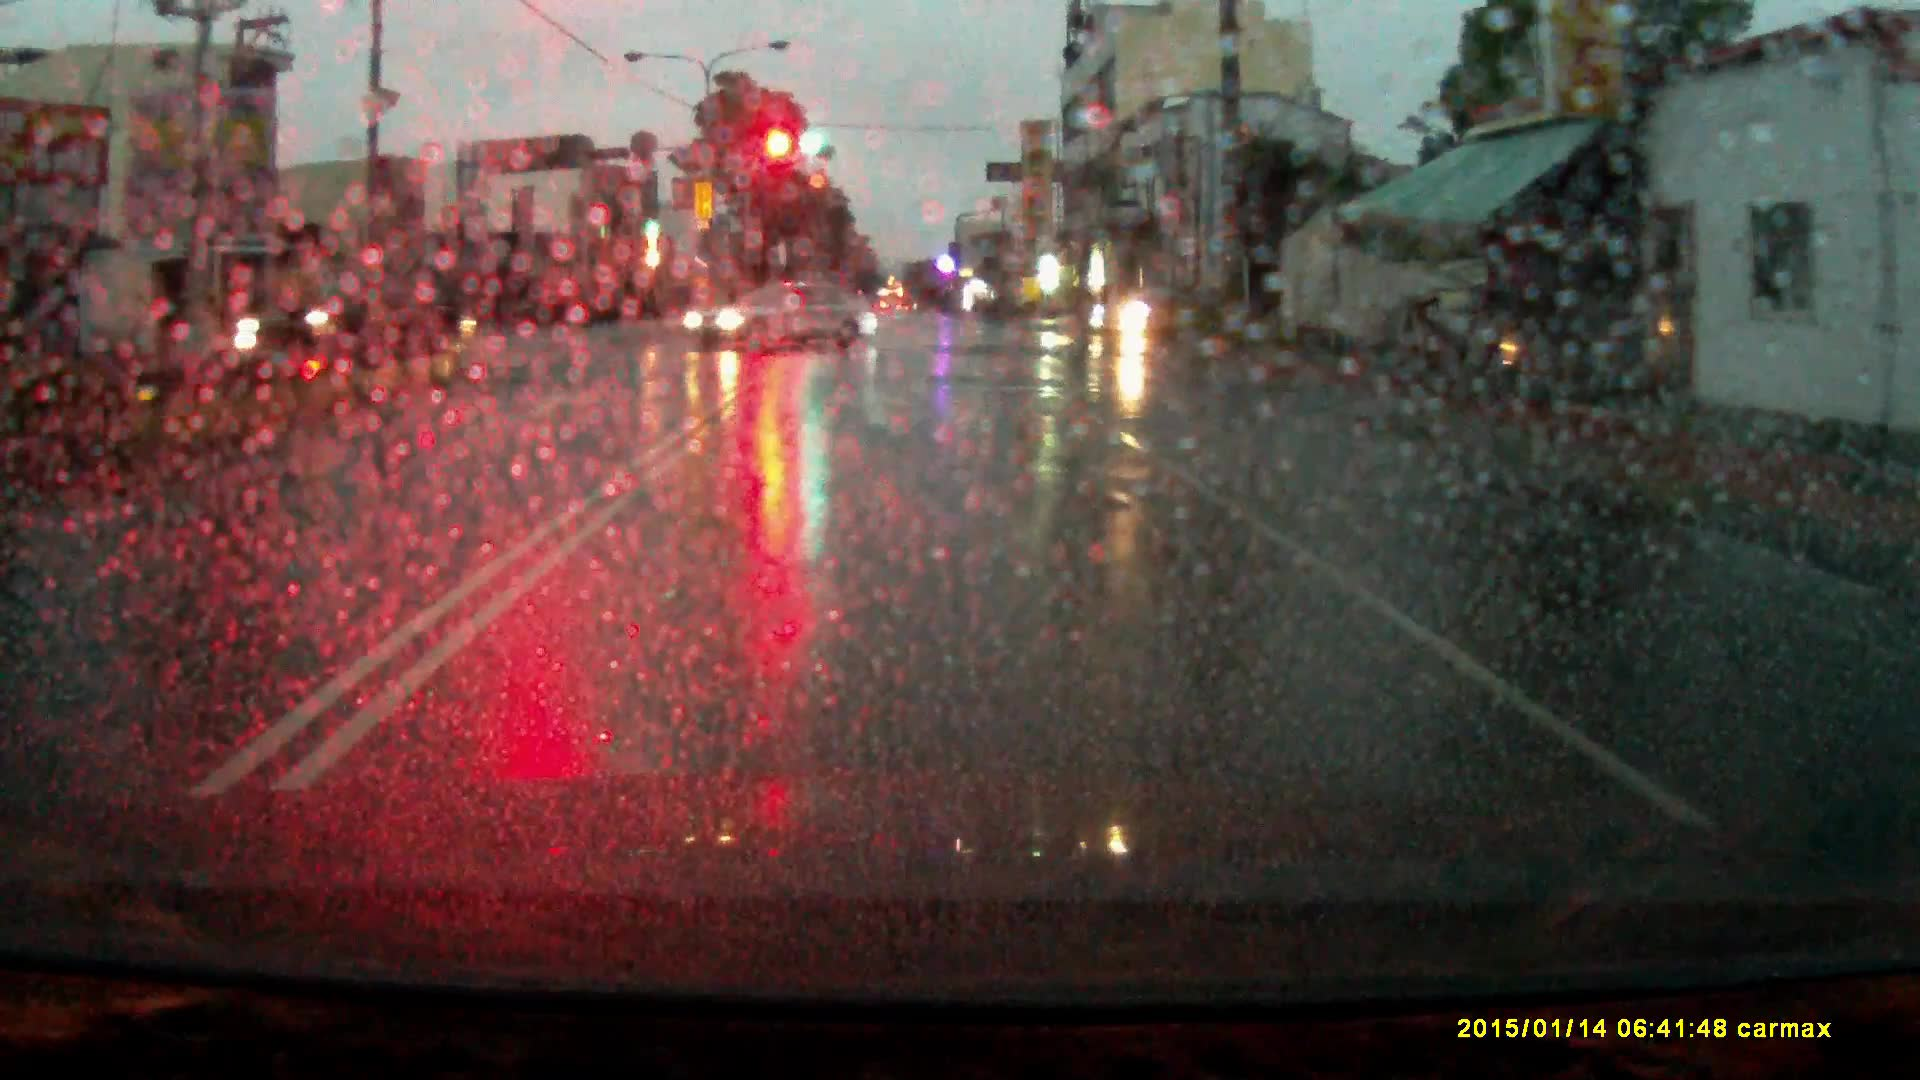vehicle: (231, 273, 483, 371), (678, 281, 884, 357), (1091, 287, 1244, 338)
